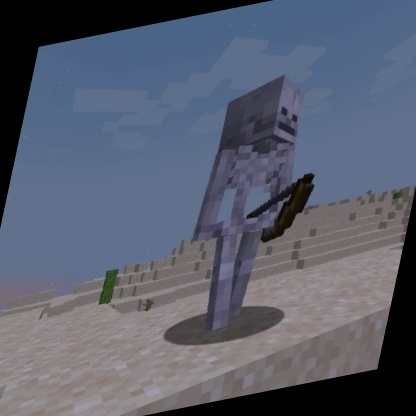skeleton: (164, 58, 347, 346)
